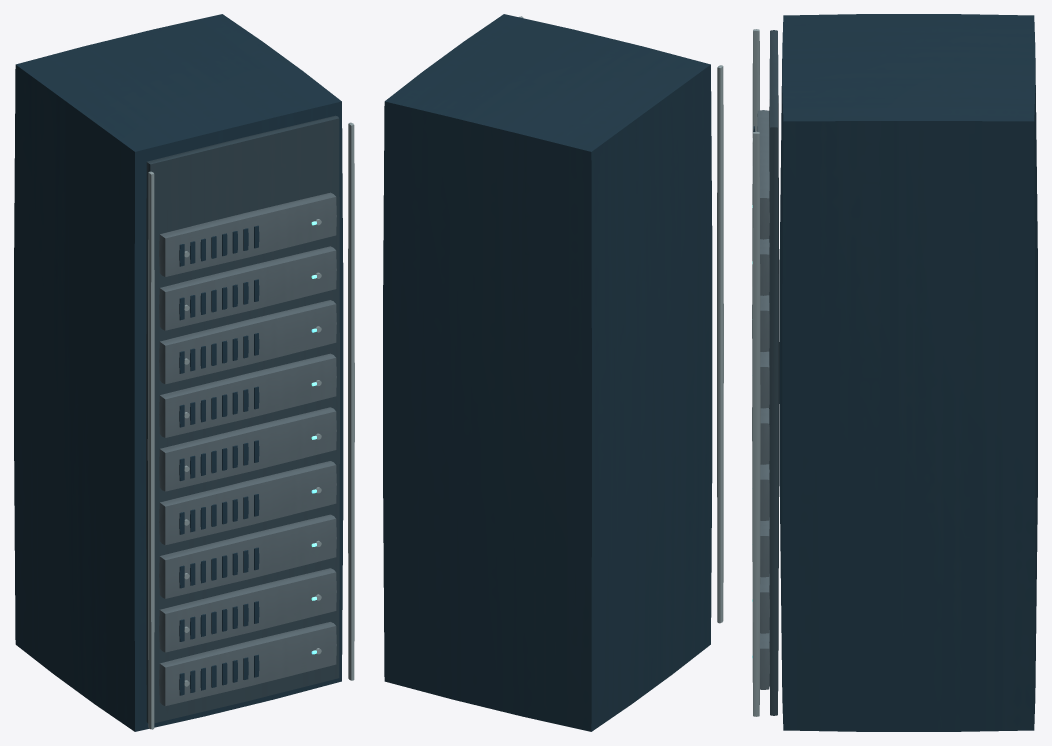
File: server.glb
The picture shows the model from 3 angles, left to right: view 1: azimuth 30°, elevation 25°; view 2: azimuth 150°, elevation 25°; view 3: azimuth 270°, elevation 25°; orthographic projection. The views are drawn at different scales.
Visible parts, largest first — view 1: server; view 2: server; view 3: server.
Part boxes in pixels (bbox=[...]): server: bbox=[14, 14, 354, 731]; server: bbox=[383, 14, 723, 731]; server: bbox=[752, 14, 1037, 731].
Bounding box in the file's own units: 0.76 × 2 × 0.8415.
Materials: 120 (120 with a texture image).
